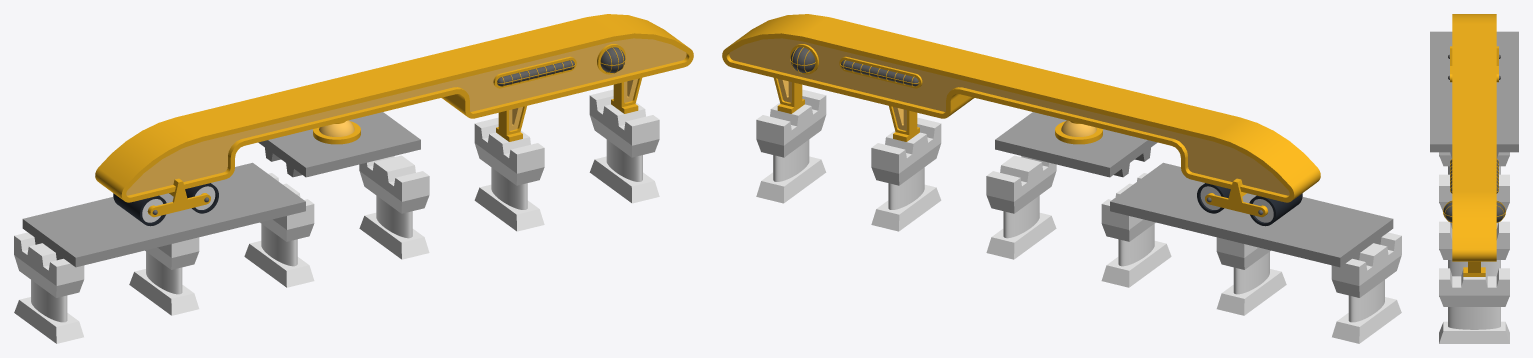
Rendered from fil_finish.fbx.
3 views of the same model, side by side, from view 1: azimuth 30°, elevation 25°; view 2: azimuth 150°, elevation 25°; view 3: azimuth 270°, elevation 25° (orthographic). The views are drawn at different scales.
Visible parts, largest first — view 1: machine-extensions, bridge-legs-stabile, bridge-slabs, machine-insides, bridge-legs-extendable, machine-lights, legs-wheeloutside; view 2: machine-extensions, bridge-legs-stabile, bridge-slabs, machine-insides, bridge-legs-extendable, machine-lights, legs-wheeloutside; view 3: machine-extensions, bridge-legs-stabile, bridge-slabs, bridge-legs-extendable, machine-lights.
Boxes of the visible parts, x1=… form: machine-extensions: x1=95, y1=14, x2=693, y2=217; bridge-legs-stabile: x1=14, y1=89, x2=659, y2=343; bridge-slabs: x1=22, y1=112, x2=420, y2=267; machine-insides: x1=126, y1=38, x2=686, y2=195; bridge-legs-extendable: x1=31, y1=139, x2=642, y2=322; machine-lights: x1=497, y1=47, x2=625, y2=86; legs-wheeloutside: x1=113, y1=183, x2=218, y2=226; machine-extensions: x1=722, y1=14, x2=1320, y2=217; bridge-legs-stabile: x1=756, y1=89, x2=1401, y2=343; bridge-slabs: x1=995, y1=112, x2=1393, y2=267; machine-insides: x1=729, y1=38, x2=1289, y2=195; bridge-legs-extendable: x1=773, y1=139, x2=1384, y2=322; machine-lights: x1=790, y1=47, x2=918, y2=86; legs-wheeloutside: x1=1197, y1=183, x2=1302, y2=226; machine-extensions: x1=1443, y1=14, x2=1505, y2=276; bridge-legs-stabile: x1=1439, y1=152, x2=1509, y2=343; bridge-slabs: x1=1430, y1=31, x2=1518, y2=158; bridge-legs-extendable: x1=1448, y1=166, x2=1500, y2=329; machine-lights: x1=1443, y1=160, x2=1505, y2=222.
Bounding box in the file's own units: 56054 × 8000 × 13600.
